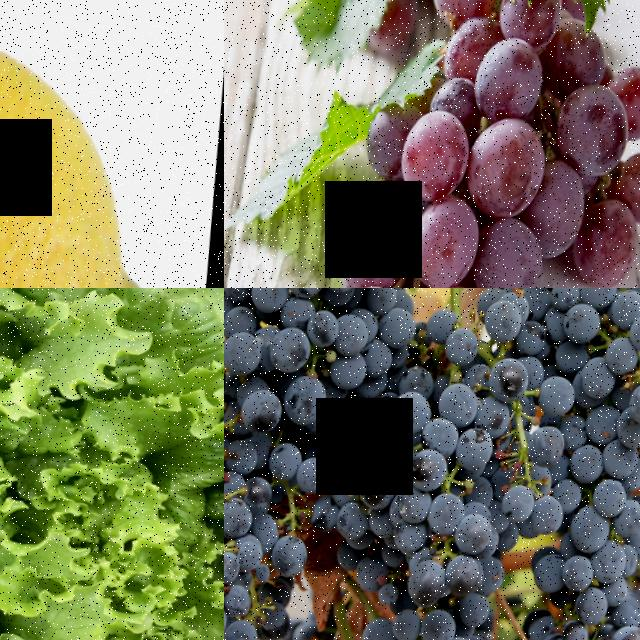grapes: (322, 0, 640, 288), (310, 363, 541, 640), (506, 288, 640, 624), (224, 288, 432, 432), (224, 399, 338, 640), (528, 607, 640, 640)
lemon: (0, 0, 197, 288)
lettuce: (0, 288, 224, 640)
